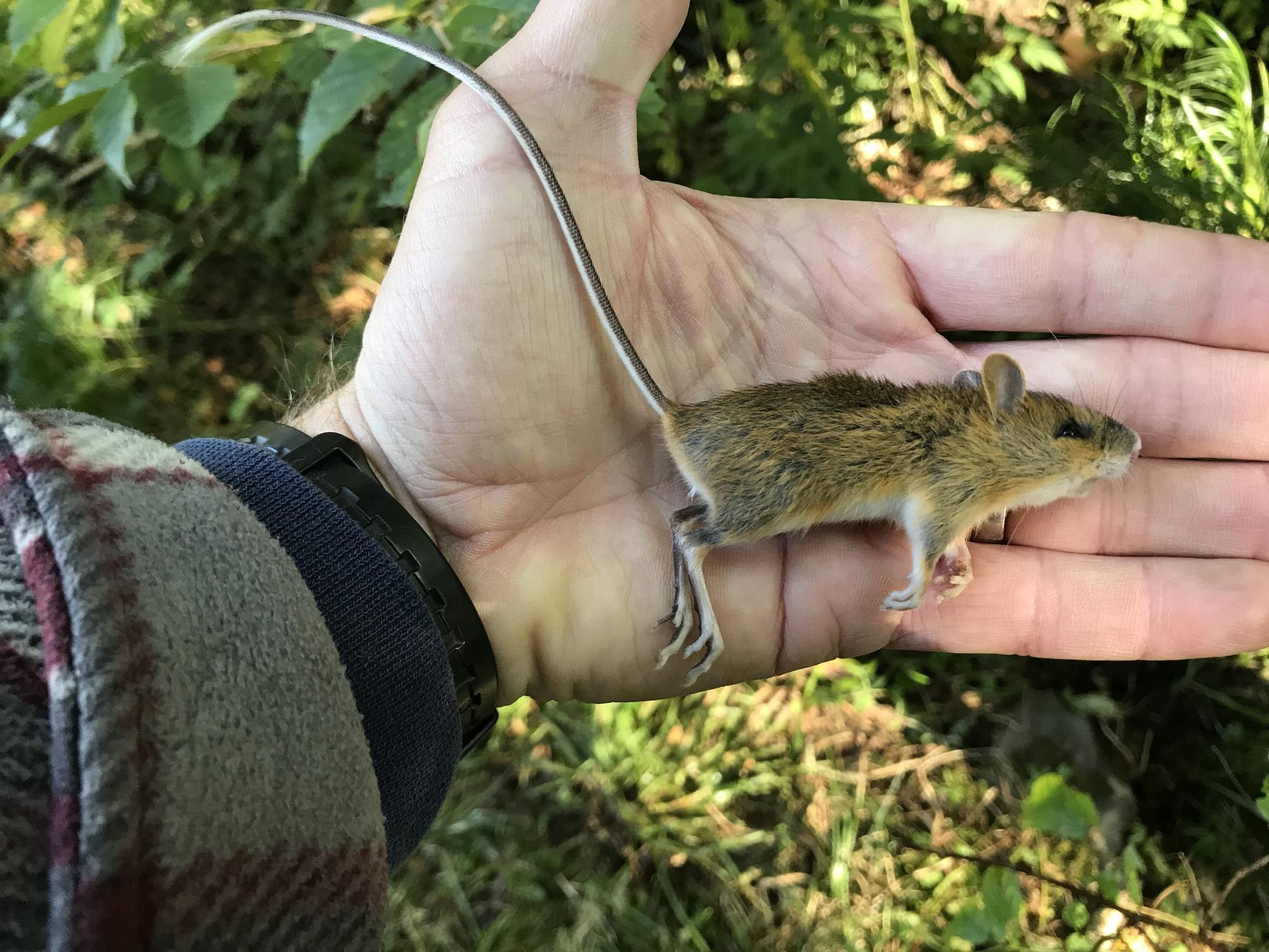rat: (274, 8, 1141, 685)
